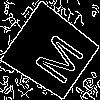M: (26, 26, 87, 87)
